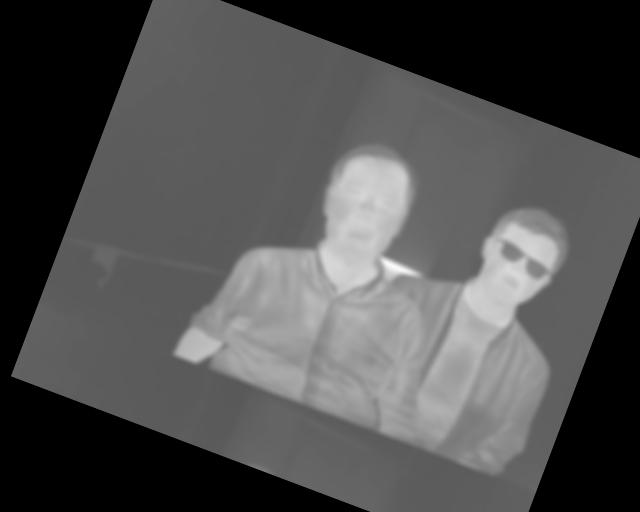face: (302, 129, 430, 277), (464, 192, 579, 319)
